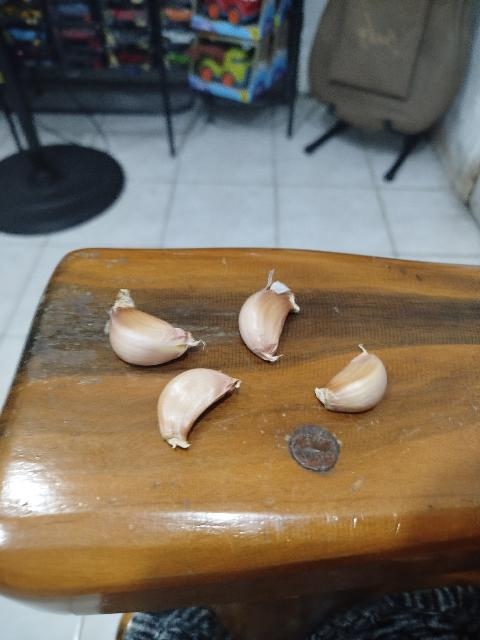garlic: (104, 288, 206, 366), (157, 368, 241, 450), (238, 270, 300, 362), (314, 343, 388, 412)
